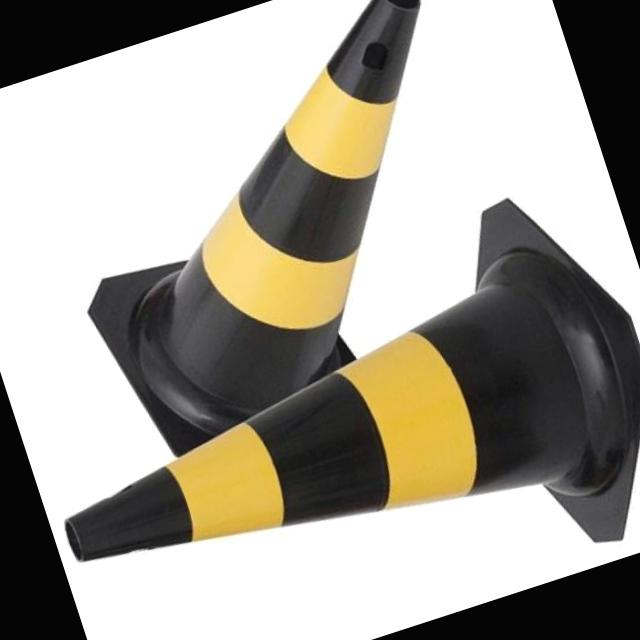cone: (21, 181, 640, 640), (0, 0, 509, 464)
